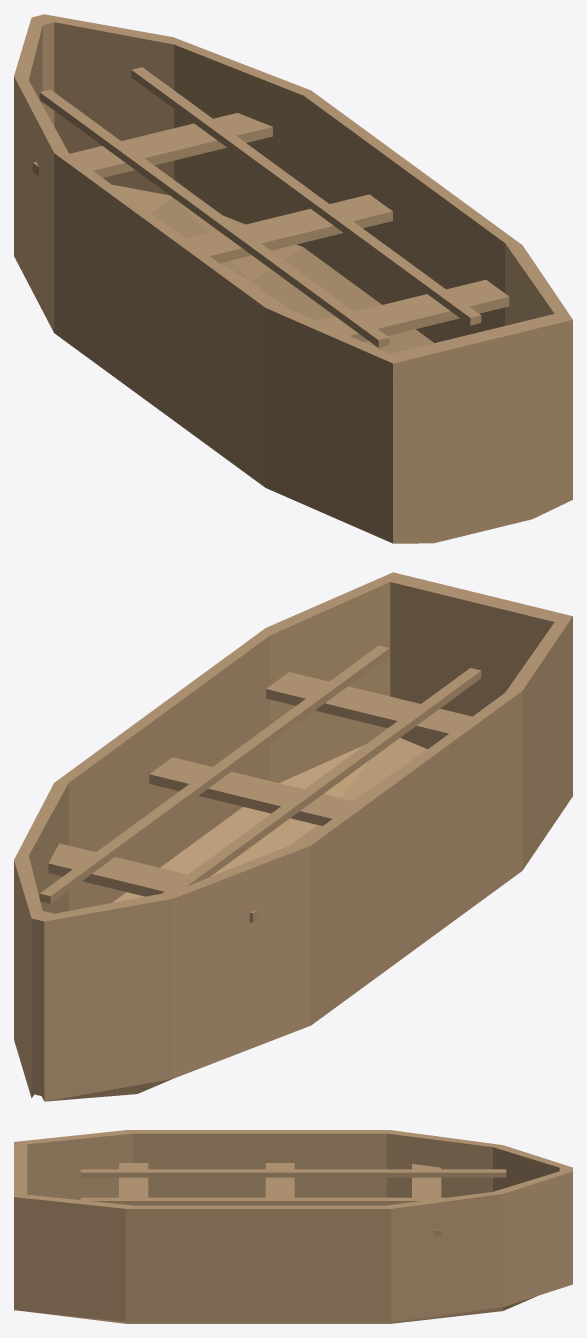
The model's file is rowing_boat.glb.
3 views of the same model, one above another, from view 1: azimuth 30°, elevation 25°; view 2: azimuth 150°, elevation 25°; view 3: azimuth 270°, elevation 25° (orthographic). The views are drawn at different scales.
Parts seen in each view (by area): view 1: rowing_boat; view 2: rowing_boat; view 3: rowing_boat.
Boxes of the visible parts, x1,y1,x2,y2 form: rowing_boat: (14,14,572,543); rowing_boat: (14,572,572,1101); rowing_boat: (14,1130,572,1323).
Bounding box in the file's own units: 1.4 × 1.1 × 4.2.
